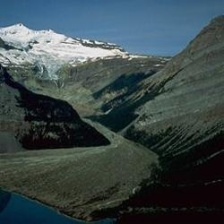neutral: (2, 7, 224, 192)
